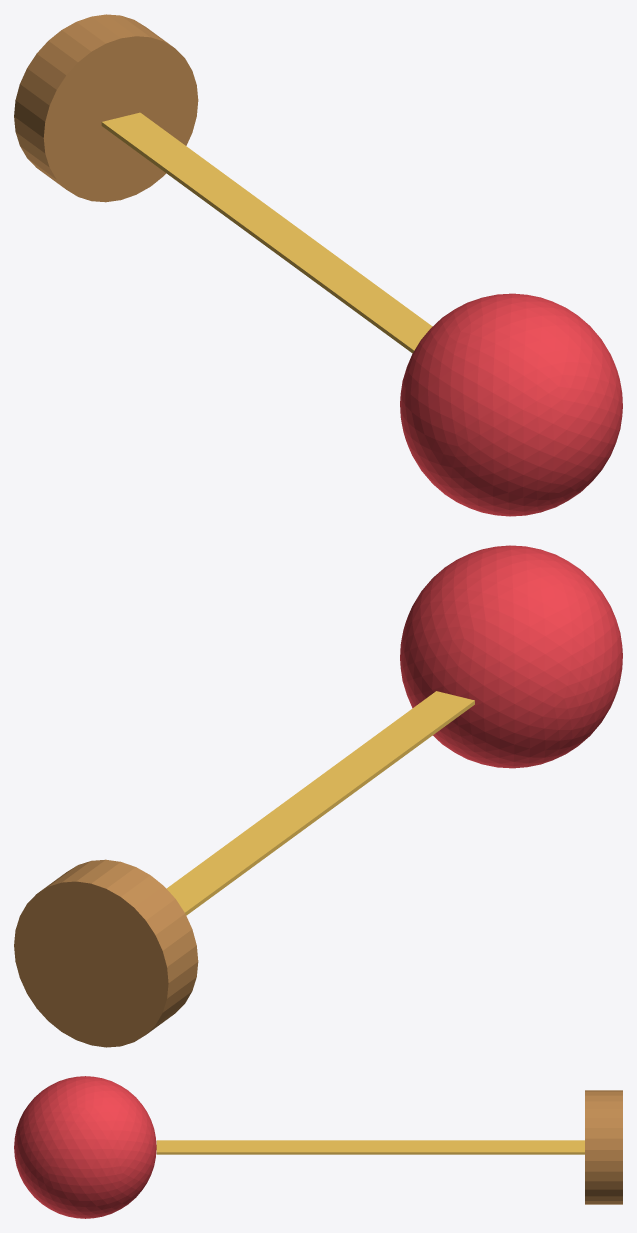
The model's file is ballon_ruban.obj.
The picture shows the model from 3 angles, top to bottom: view 1: azimuth 30°, elevation 25°; view 2: azimuth 150°, elevation 25°; view 3: azimuth 270°, elevation 25°; orthographic projection. The views are drawn at different scales.
Visible parts, largest first — view 1: ballon, base, ruban; view 2: ballon, base, ruban; view 3: ballon, ruban, base.
Boxes of the visible parts, <box> form: ballon: <box>400,293,622,516</box>; base: <box>14,14,198,202</box>; ruban: <box>101,112,432,353</box>; ballon: <box>400,545,622,768</box>; base: <box>14,859,198,1047</box>; ruban: <box>166,691,474,915</box>; ballon: <box>14,1076,156,1218</box>; ruban: <box>156,1140,584,1154</box>; base: <box>585,1090,622,1204</box>.
Size of the model in its own units: 30 by 30 by 128.
